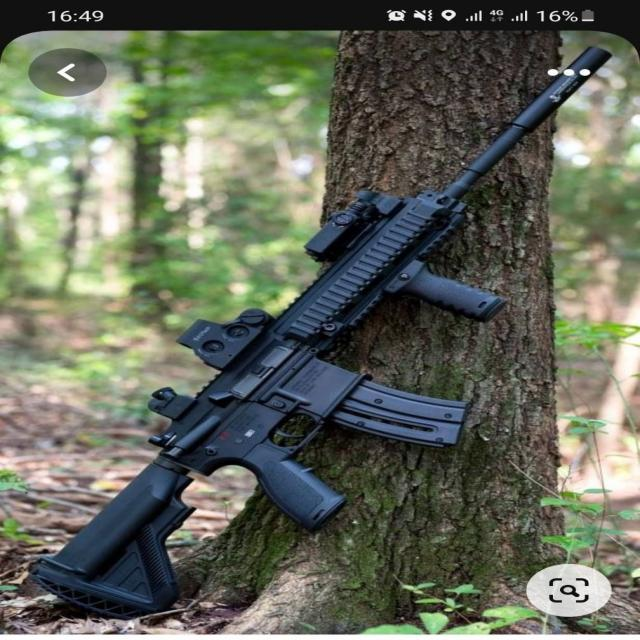m16: (222, 57, 575, 555)
